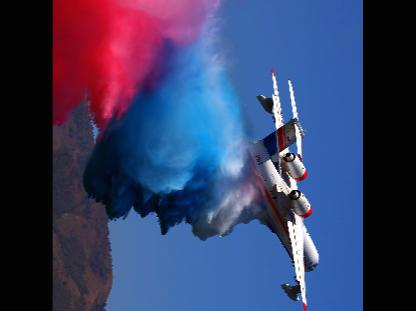B52: (243, 68, 321, 310)
